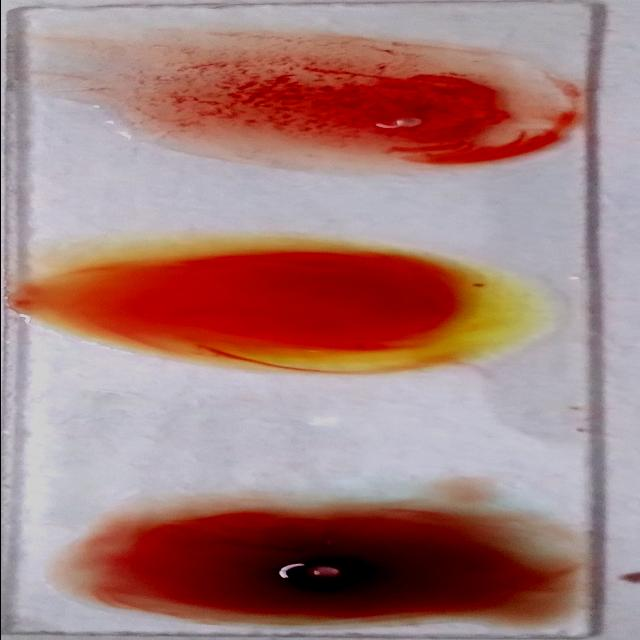D: (112, 41, 574, 171)
